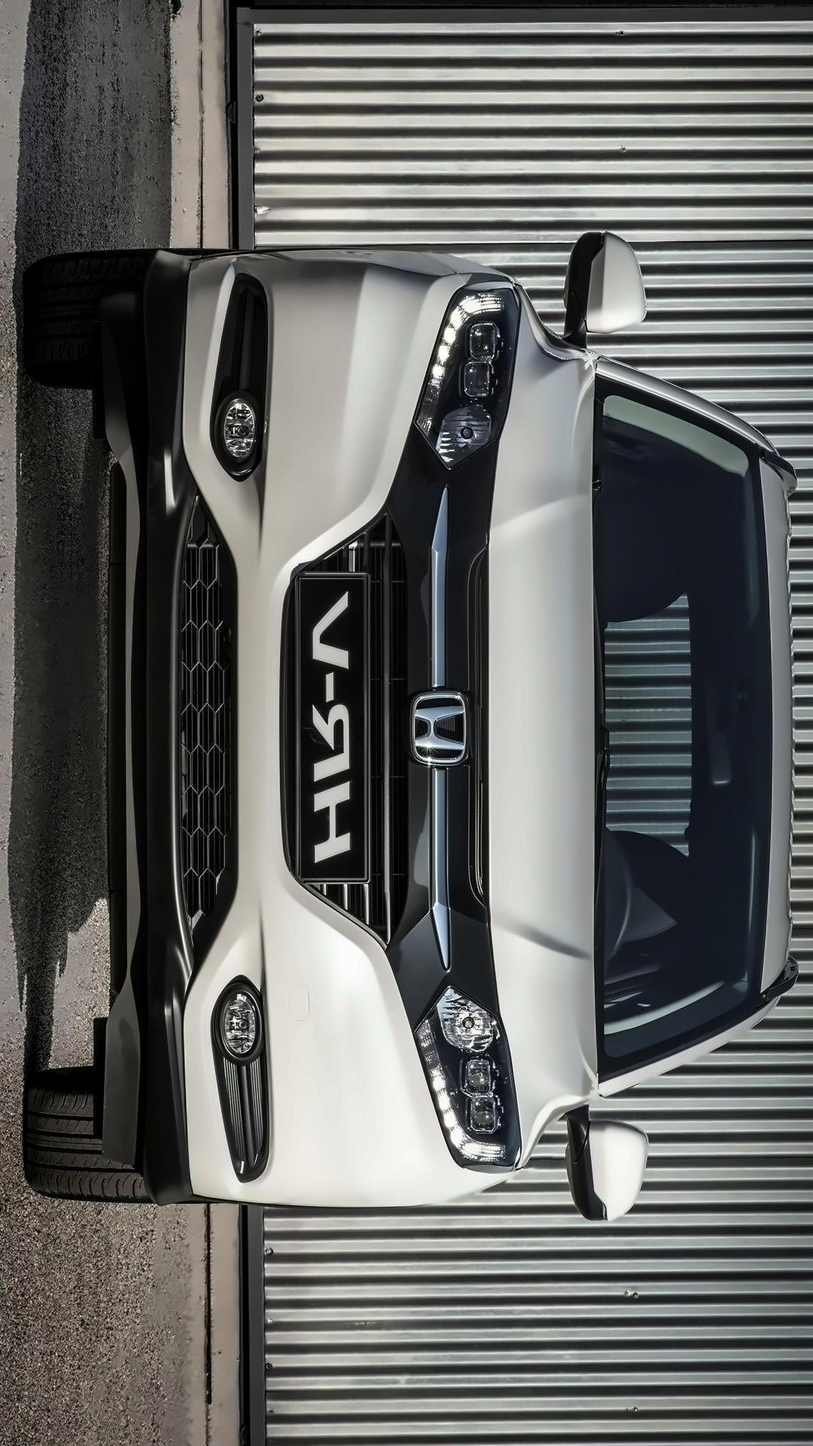Front bumper: (71, 219, 393, 1231), (477, 271, 611, 1202)
Headlight - -L-: (409, 977, 527, 1184)
Headlight - -R-: (402, 271, 520, 479)
